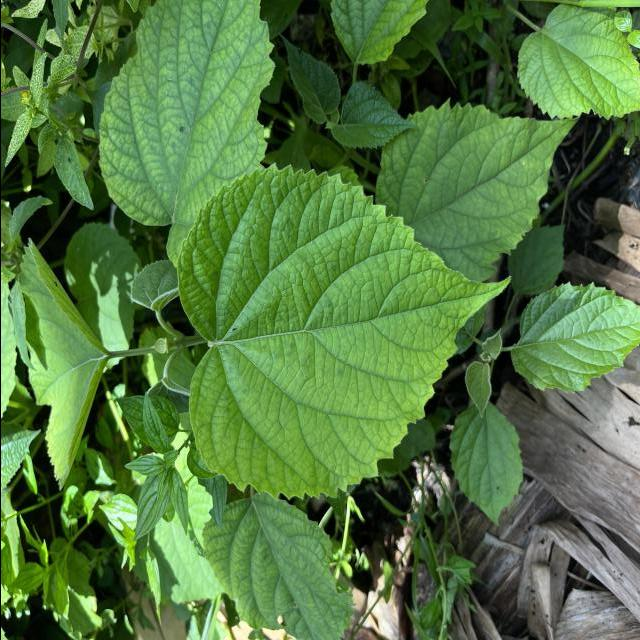Clerodendrum infortunatum: (172, 159, 516, 503), (95, 1, 278, 270), (373, 94, 581, 284), (199, 488, 354, 640)
